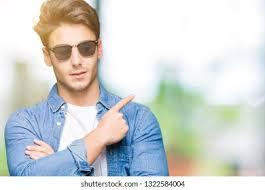sunglasses: (47, 38, 103, 62)
